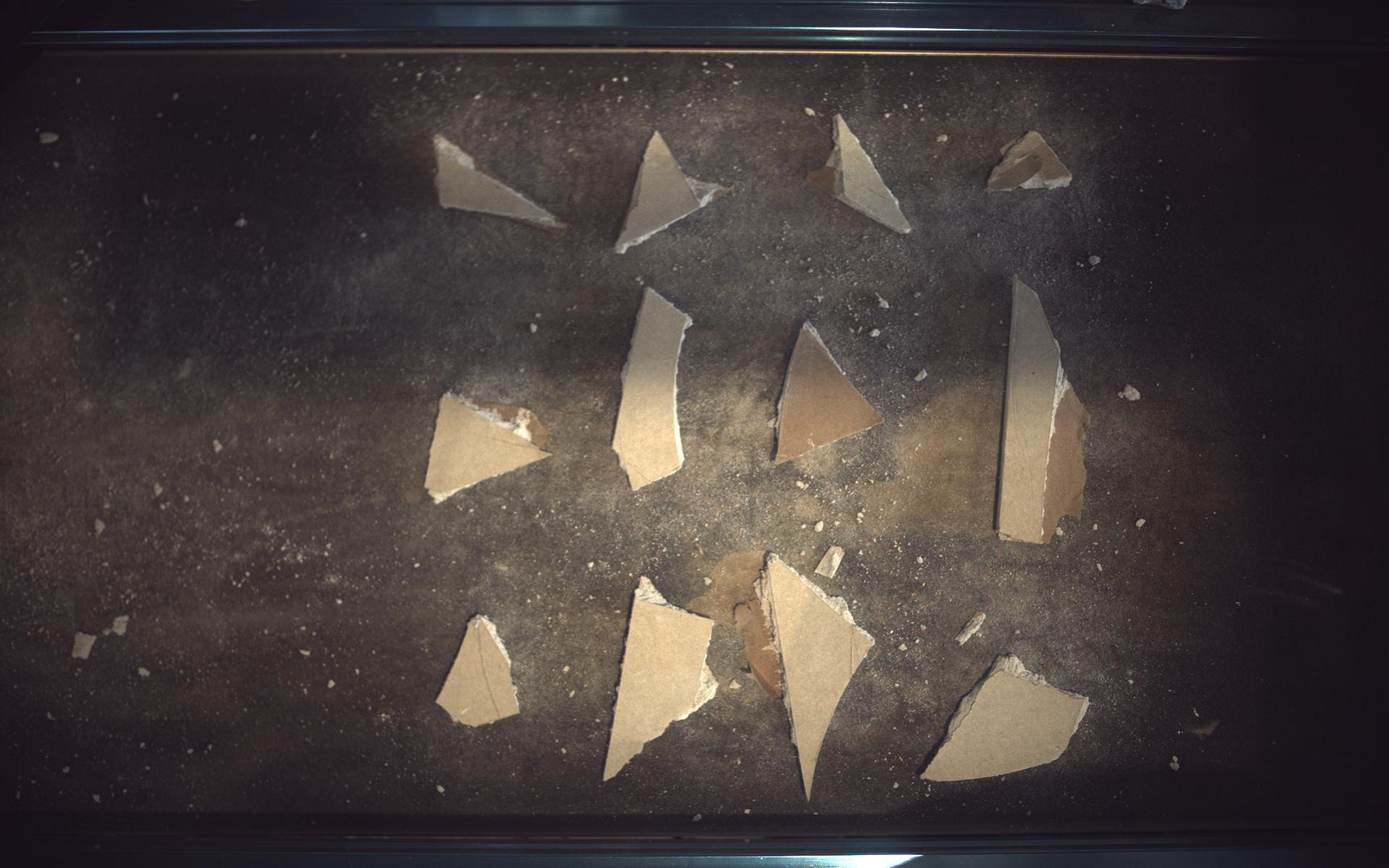gypsum_board: (734, 553, 876, 799), (998, 276, 1091, 544), (603, 577, 719, 782), (924, 655, 1091, 783), (613, 286, 694, 490), (776, 322, 885, 464), (616, 131, 734, 253), (425, 392, 551, 504), (807, 113, 913, 233), (433, 133, 566, 228), (436, 616, 519, 728), (988, 129, 1074, 192)
